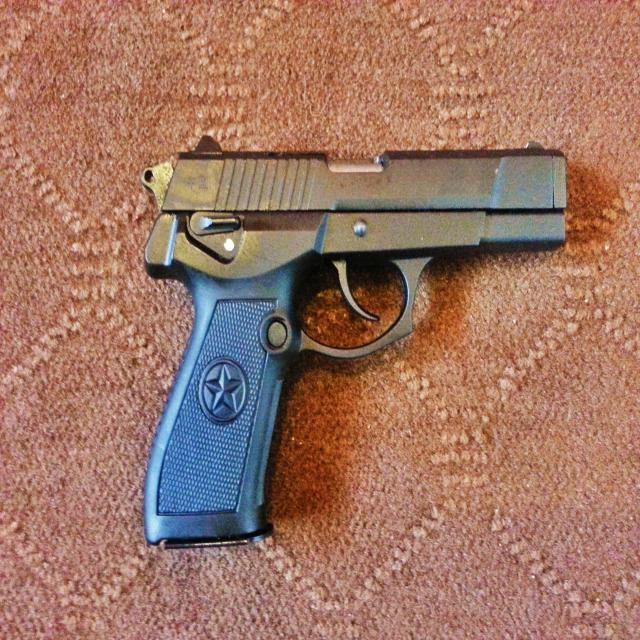pistol: (137, 136, 571, 558)
